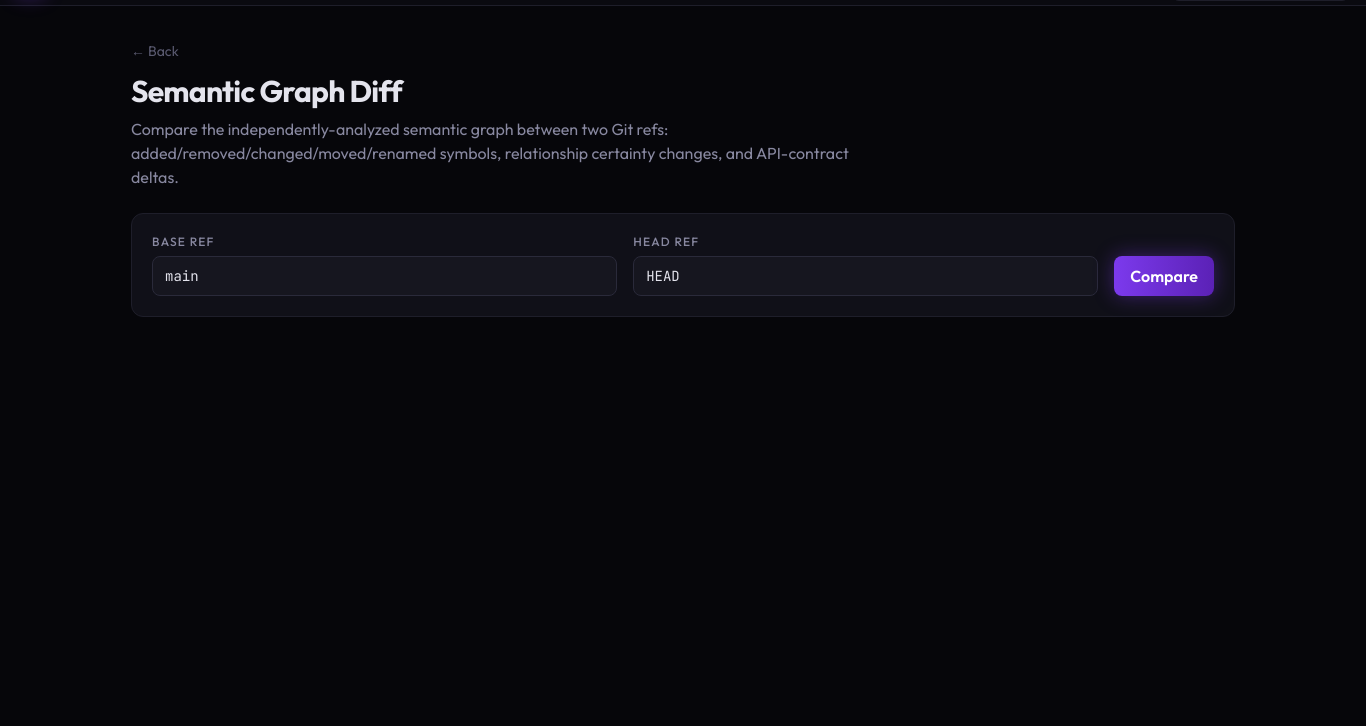
GraphDiffPage › renders unsupported flow/cluster sections with an explicit reason, not empty
Click the button "Compare" at (1164, 276), box x1=1114 y1=256 x2=1214 y2=296
(page scrolled)
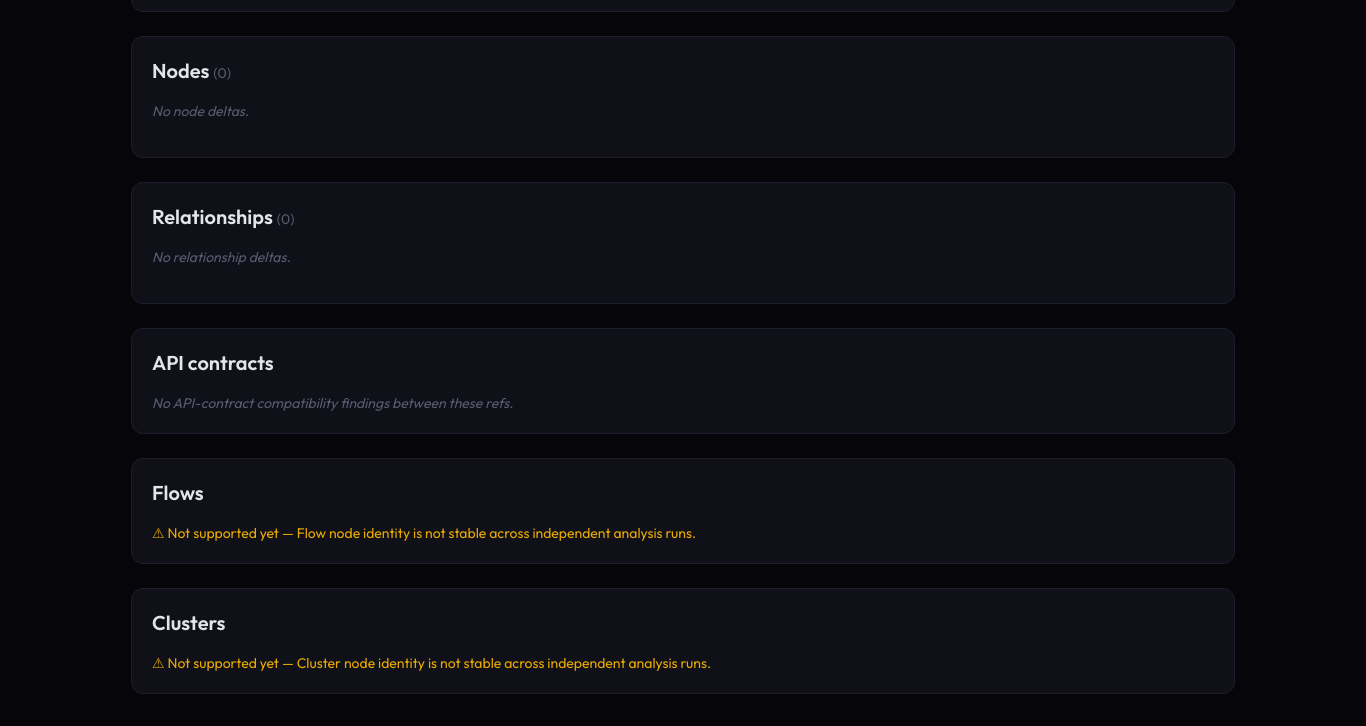
Expected: the element "Flows" is shown, x1=131 y1=458 x2=1235 y2=564
Expected: the text "Not supported yet" is shown, x1=152 y1=524 x2=297 y2=542
Expected: the element "Clusters" is shown, x1=131 y1=588 x2=1235 y2=694
